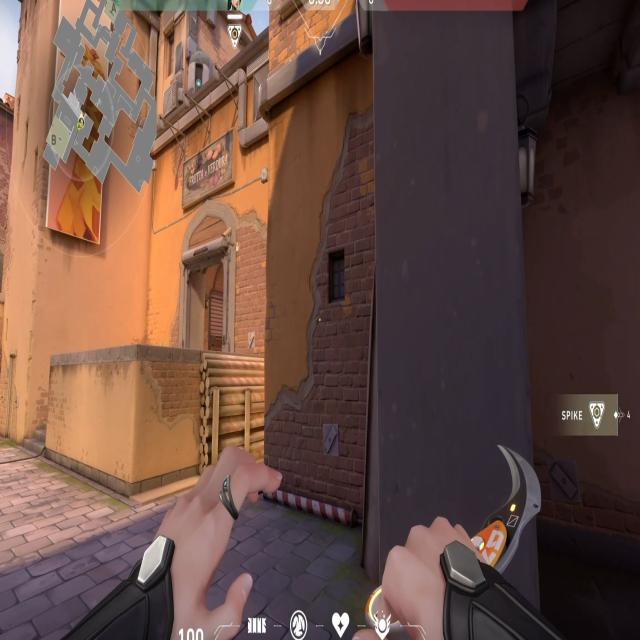B_Cubby: (123, 322, 270, 508)
